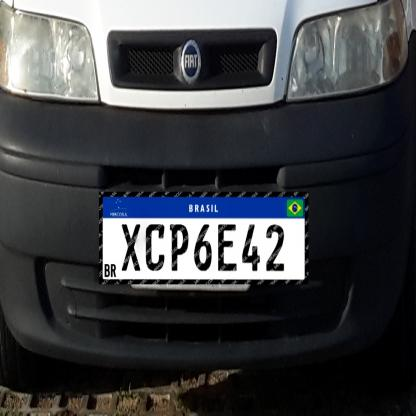PlacaM: (99, 192, 308, 284)
